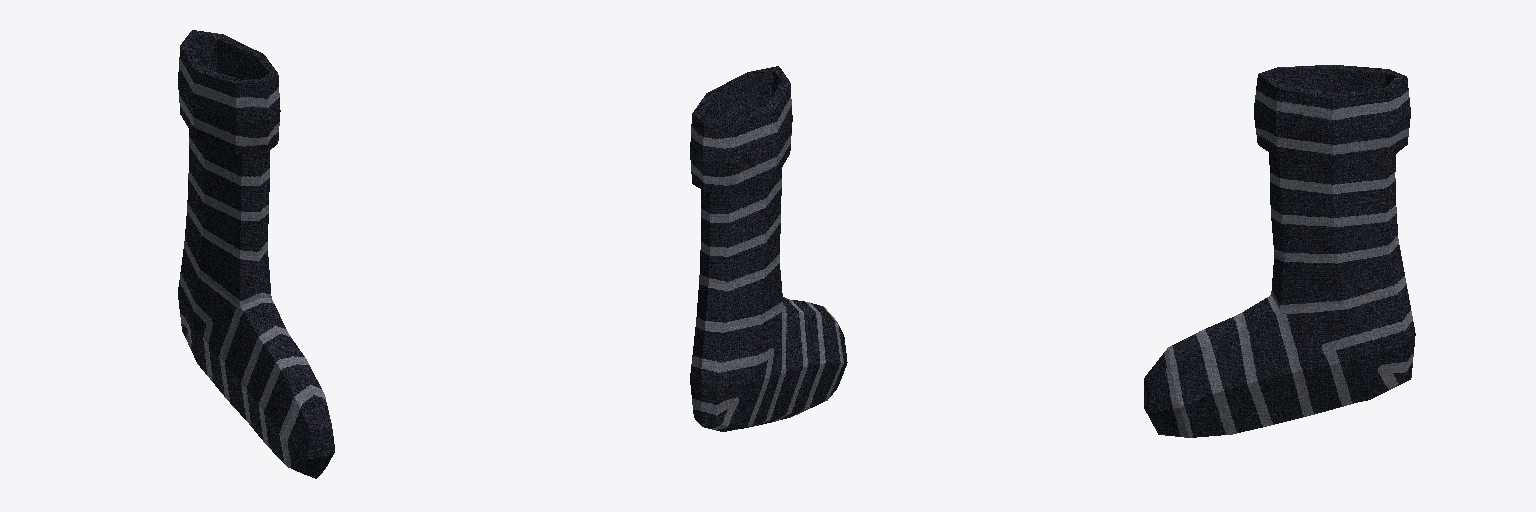
The picture shows the model from 3 angles: view 1: azimuth 30°, elevation 25°; view 2: azimuth 150°, elevation 25°; view 3: azimuth 270°, elevation 25°; orthographic projection.
Parts seen in each view (by area): view 1: sockmesh; view 2: sockmesh; view 3: sockmesh.
Part boxes in pixels (x1,y1,x2,y2): sockmesh: (178, 30, 334, 478); sockmesh: (690, 66, 847, 431); sockmesh: (1144, 65, 1415, 437).
Bounding box in the file's own units: 1.2 × 5.71 × 3.86.
1 materials, 1 textured.